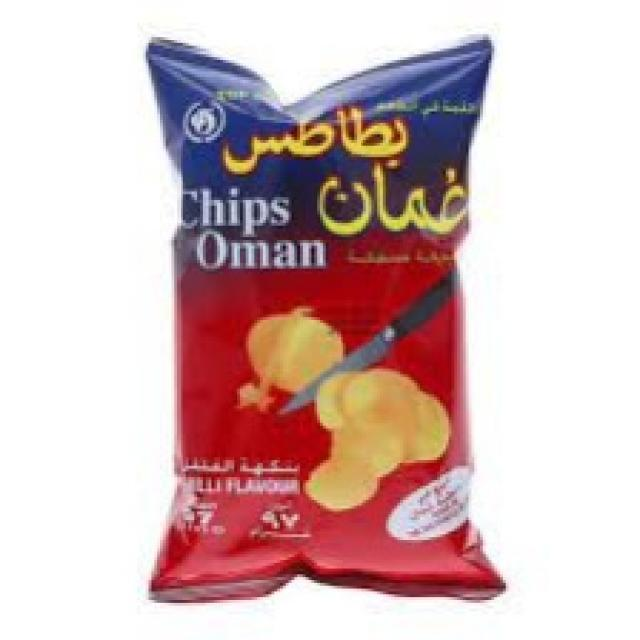plastic: (141, 24, 515, 597)
